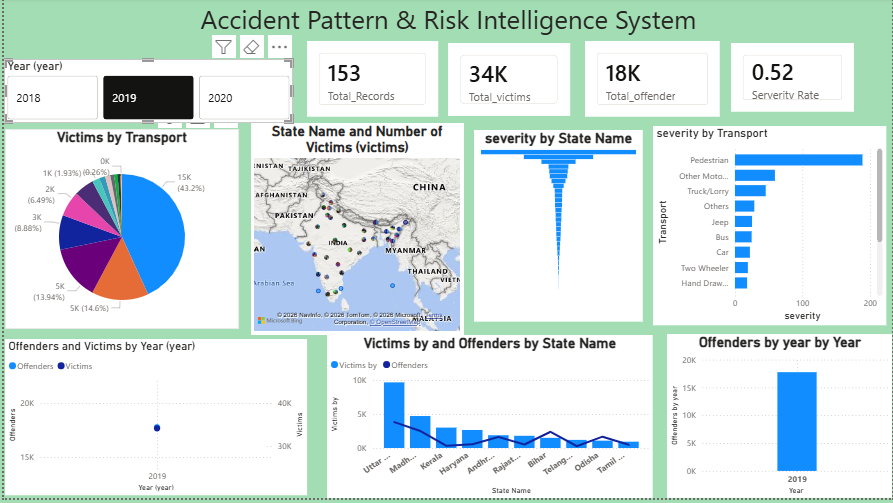

Layout of this report page (visuals, bound fields, positions):
{"tool":"powerbi","page":{"name":"dashboards","canvas":[1280,720],"ordinal":6},"visuals":[{"type":"textbox","box":[0,0,1280,70],"z":0},{"type":"advancedSlicerVisual","fields":{"Values":["Fact_main.Year (year)"]},"box":[0,87.8,416.2,92.2],"z":1000},{"type":"cardVisual","fields":{"Data":["state_dim1.Total_accidents"]},"box":[436.3,61.9,188.6,109.4],"z":2000},{"type":"cardVisual","fields":{"Data":["Fact_main.Total_victims"]},"box":[639.4,64.8,175.7,105.1],"z":3000},{"type":"cardVisual","fields":{"Data":["Fact_main.Total_offender"]},"box":[836.6,61.9,194.4,109.4],"z":4000},{"type":"cardVisual","fields":{"Data":["Fact_main.Serverity Rate"]},"box":[1046.9,64.8,177.1,99.4],"z":5000},{"type":"pieChart","fields":{"Category":["transport_dim.Transport"],"Y":["Sum(Fact_main.Number of Victims (victims))"]},"box":[1.4,188.6,337,288],"z":6000},{"type":"map","fields":{"Category":["state_dim1.State Name"],"Series":["Fact_main.Number of Victims (victims)"]},"box":[355.6,180.6,305.6,304.2],"z":7000},{"type":"funnel","fields":{"Category":["state_dim1.State Name"],"Y":["Sum(Fact_main.severity)"]},"box":[676.8,190.1,243.4,276.5],"z":8000},{"type":"barChart","fields":{"Y":["Sum(Fact_main.severity)"],"Category":["transport_dim.Transport"]},"box":[934.6,184.3,335.5,286.6],"z":9000},{"type":"lineChart","fields":{"Category":["Fact_main.Year (year)"],"Y":["Sum(Fact_main.Number of Offenders (offenders))"],"Y2":["Sum(Fact_main.Number of Victims (victims))"]},"box":[1.4,491,434.9,224.6],"z":10000},{"type":"lineStackedColumnComboChart","fields":{"Category":["state_dim1.State Name"],"Y":["Sum(Fact_main.Number of Victims (victims))"],"Y2":["Sum(Fact_main.Number of Offenders (offenders))"]},"box":[465.1,485.3,469.4,234.7],"z":11000},{"type":"columnChart","fields":{"Category":["Fact_main.Year (year)"],"Y":["Sum(Fact_main.Number of Offenders (offenders))"]},"box":[954.7,483.8,325.4,236.2],"z":12000}]}

Visuals, with their boxes in screenshot pixels (x1, y1, x2, y2), scaled from the page's 1280x720 canvas onto the 893x503 screenshot:
textbox: left=0, top=0, right=892, bottom=49
advancedSlicerVisual - Fact_main.Year (year): left=0, top=61, right=290, bottom=126
cardVisual - state_dim1.Total_accidents: left=304, top=43, right=436, bottom=120
cardVisual - Fact_main.Total_victims: left=446, top=45, right=569, bottom=119
cardVisual - Fact_main.Total_offender: left=584, top=43, right=719, bottom=120
cardVisual - Fact_main.Serverity Rate: left=730, top=45, right=854, bottom=115
pieChart - transport_dim.Transport x Sum(Fact_main.Number of Victims (victims)): left=1, top=132, right=236, bottom=333
map - state_dim1.State Name x Fact_main.Number of Victims (victims): left=248, top=126, right=461, bottom=339
funnel - state_dim1.State Name x Sum(Fact_main.severity): left=472, top=133, right=642, bottom=326
barChart - Sum(Fact_main.severity) x transport_dim.Transport: left=652, top=129, right=886, bottom=329
lineChart - Fact_main.Year (year) x Sum(Fact_main.Number of Offenders (offenders)): left=1, top=343, right=304, bottom=500
lineStackedColumnComboChart - state_dim1.State Name x Sum(Fact_main.Number of Victims (victims)): left=324, top=339, right=652, bottom=502
columnChart - Fact_main.Year (year) x Sum(Fact_main.Number of Offenders (offenders)): left=666, top=338, right=892, bottom=502
